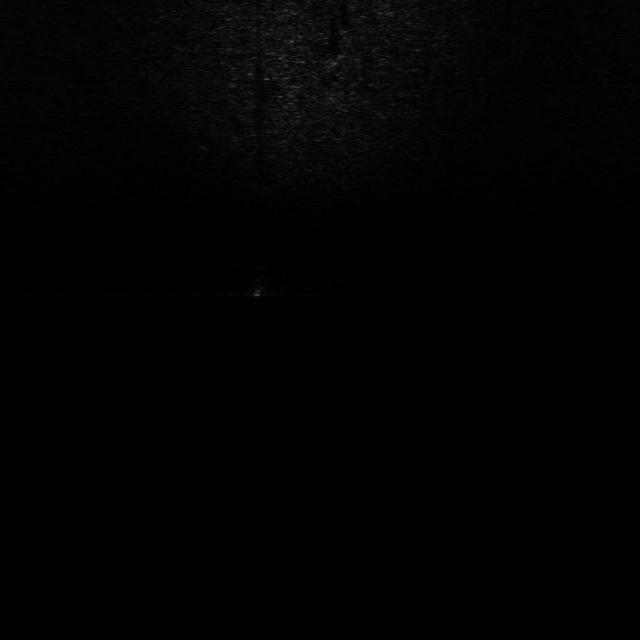human body: (234, 262, 280, 306)
